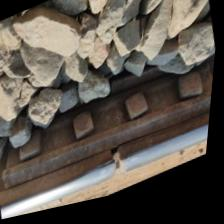person: (81, 128, 158, 206)
